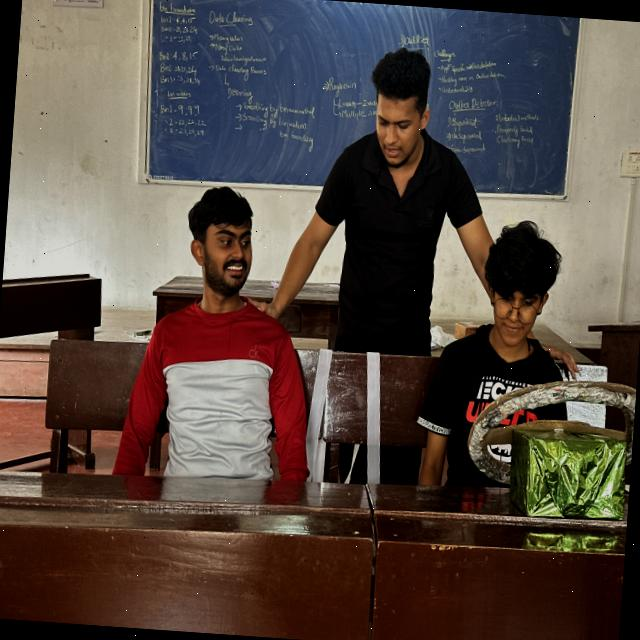Helmet: (298, 116, 482, 346), (136, 291, 308, 484), (418, 315, 588, 488)
